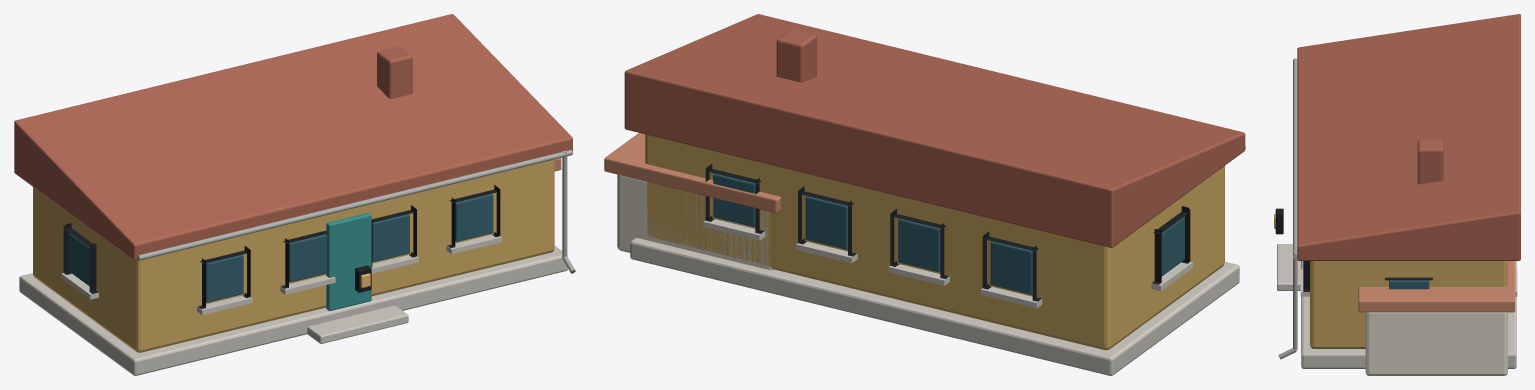
File: RES_LOW_2x1_010.glb
3 views of the same model, side by side, from view 1: azimuth 30°, elevation 25°; view 2: azimuth 150°, elevation 25°; view 3: azimuth 270°, elevation 25° (orthographic). The views are drawn at different scales.
Visible parts, largest first — view 1: RES_LOW_2x1_010_Visual; view 2: RES_LOW_2x1_010_Visual; view 3: RES_LOW_2x1_010_Visual.
Boxes of the visible parts, bbox=[...] form: RES_LOW_2x1_010_Visual: bbox=[14, 14, 575, 375]; RES_LOW_2x1_010_Visual: bbox=[604, 14, 1245, 375]; RES_LOW_2x1_010_Visual: bbox=[1274, 14, 1520, 375].
Size of what is drawn, in the model's own units: 3.44 by 1.37 by 1.72.
